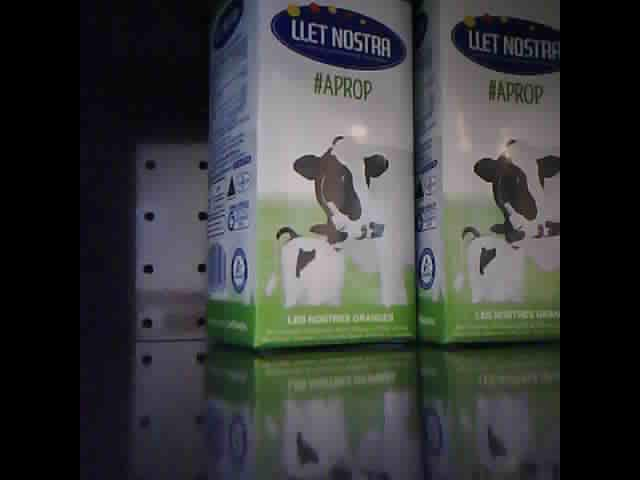leche: (207, 3, 412, 352), (417, 3, 561, 348)
